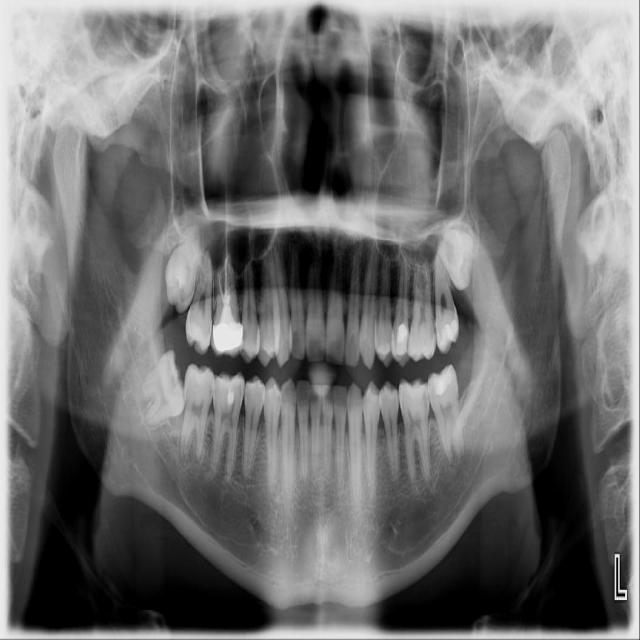Crown: (210, 318, 243, 358)
Filling: (214, 371, 244, 409), (427, 367, 456, 402), (438, 315, 460, 355), (394, 321, 410, 357)
Periapical lesion: (179, 454, 189, 468), (195, 450, 202, 465)
Root Canal Treatment: (219, 273, 225, 305), (224, 257, 227, 305)
impacted tooth: (163, 222, 200, 315), (142, 349, 184, 423), (438, 220, 478, 287)
